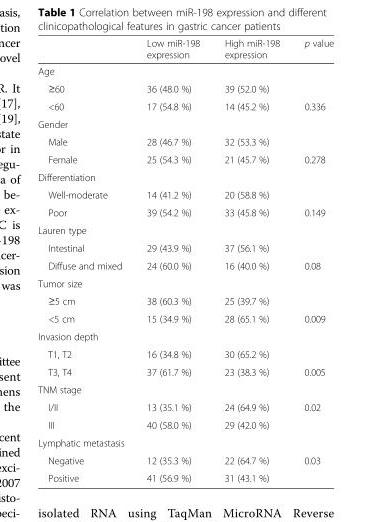table: (37, 37, 333, 483)
table column: (37, 37, 133, 483), (211, 37, 291, 483), (133, 37, 211, 483), (291, 37, 333, 483)
table column header: (37, 37, 333, 62)
table projected row header: (37, 114, 333, 132), (37, 380, 333, 398), (37, 433, 333, 451), (37, 62, 333, 79), (37, 168, 333, 185), (37, 221, 333, 238), (37, 274, 333, 291), (37, 327, 333, 344)
table row: (37, 37, 333, 62), (37, 79, 333, 97), (37, 114, 333, 132), (37, 132, 333, 150), (37, 150, 333, 168), (37, 185, 333, 203), (37, 203, 333, 221), (37, 238, 333, 256), (37, 256, 333, 274), (37, 291, 333, 309), (37, 309, 333, 327), (37, 344, 333, 362), (37, 362, 333, 380), (37, 380, 333, 398), (37, 415, 333, 433), (37, 433, 333, 451), (37, 62, 333, 79), (37, 97, 333, 114), (37, 168, 333, 185), (37, 221, 333, 238), (37, 274, 333, 291), (37, 327, 333, 344), (37, 398, 333, 415), (37, 451, 333, 468), (37, 468, 333, 483)
